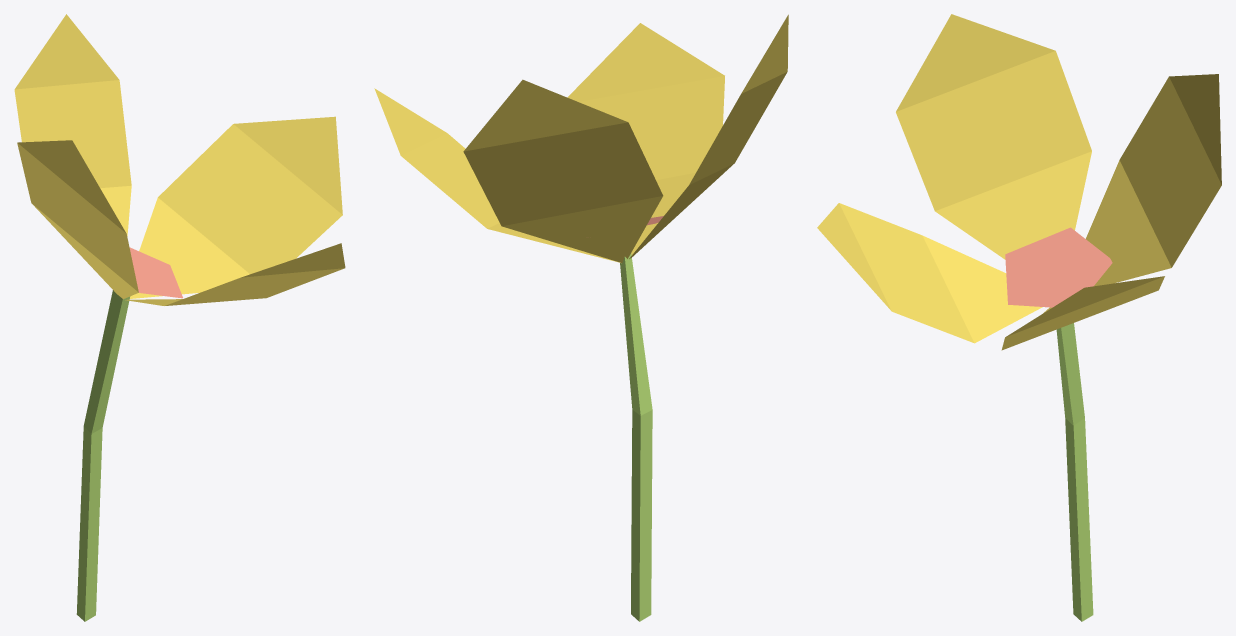
Rendered from Flower_d_OneS_01.fbx.
3 renders of one model, left to right at view 1: azimuth 30°, elevation 25°; view 2: azimuth 150°, elevation 25°; view 3: azimuth 270°, elevation 25°, orthographic. The views are drawn at different scales.
Parts seen in each view (by area): view 1: Flower_d_OneS_01; view 2: Flower_d_OneS_01; view 3: Flower_d_OneS_01.
Boxes of the visible parts, box(x1,y1,x2,y2) form: Flower_d_OneS_01: box(14, 14, 345, 621); Flower_d_OneS_01: box(374, 14, 788, 621); Flower_d_OneS_01: box(817, 14, 1221, 621).
Bounding box in the file's own units: 19.27 × 30.15 × 19.53.
